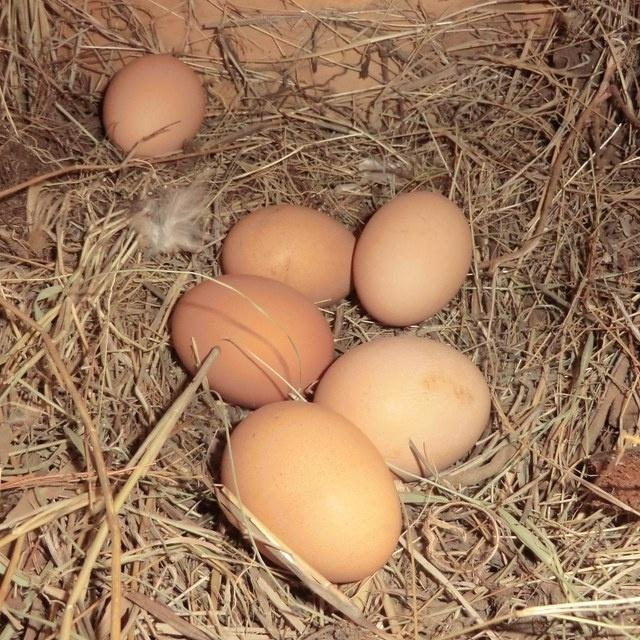egg: (219, 399, 402, 583), (313, 334, 491, 481), (170, 273, 334, 408), (352, 190, 472, 326), (220, 203, 355, 306), (101, 53, 205, 159)
